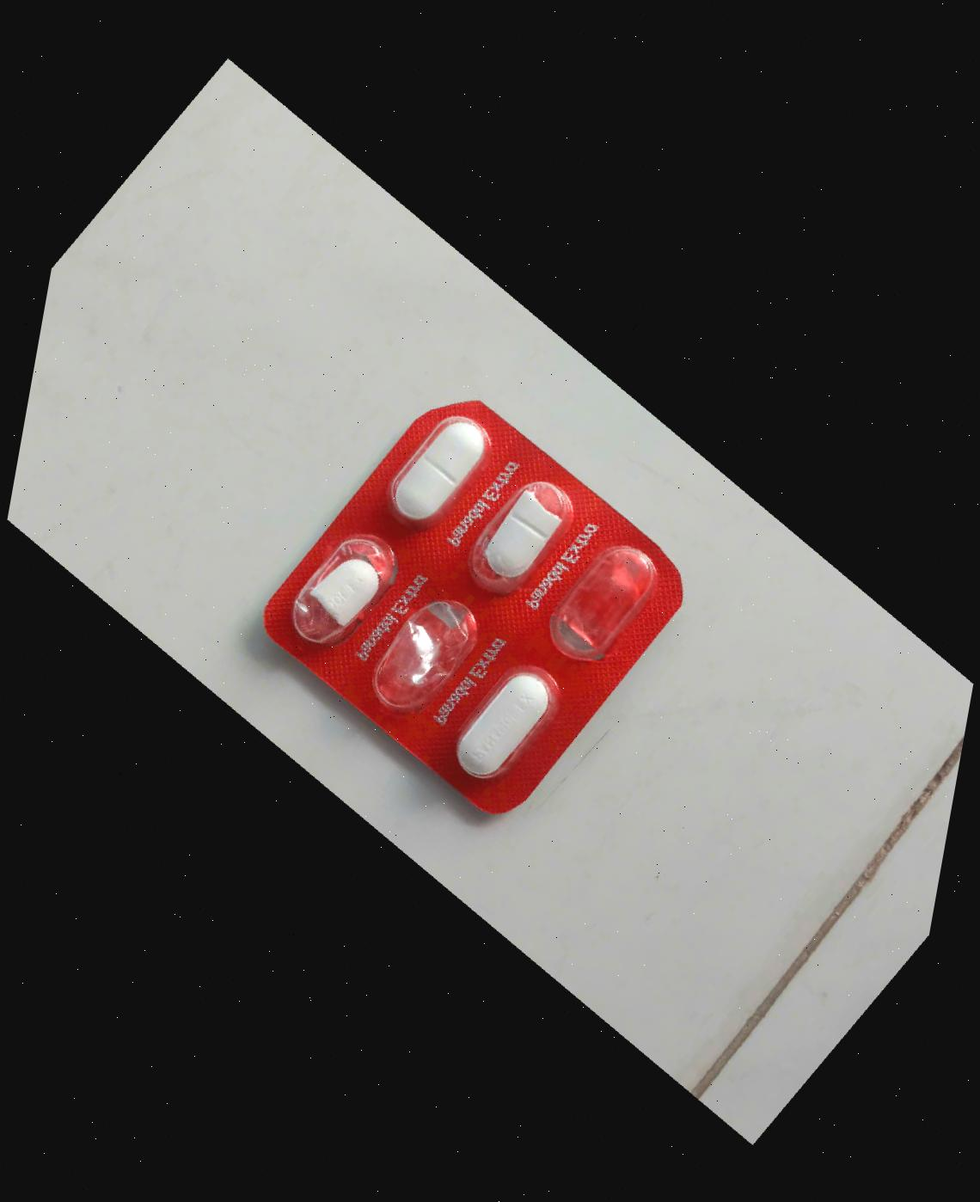Empty: (350, 575, 502, 735), (530, 521, 680, 681)
Full: (434, 644, 586, 804), (366, 390, 516, 551)
Partial: (446, 457, 598, 617), (267, 507, 418, 668)
